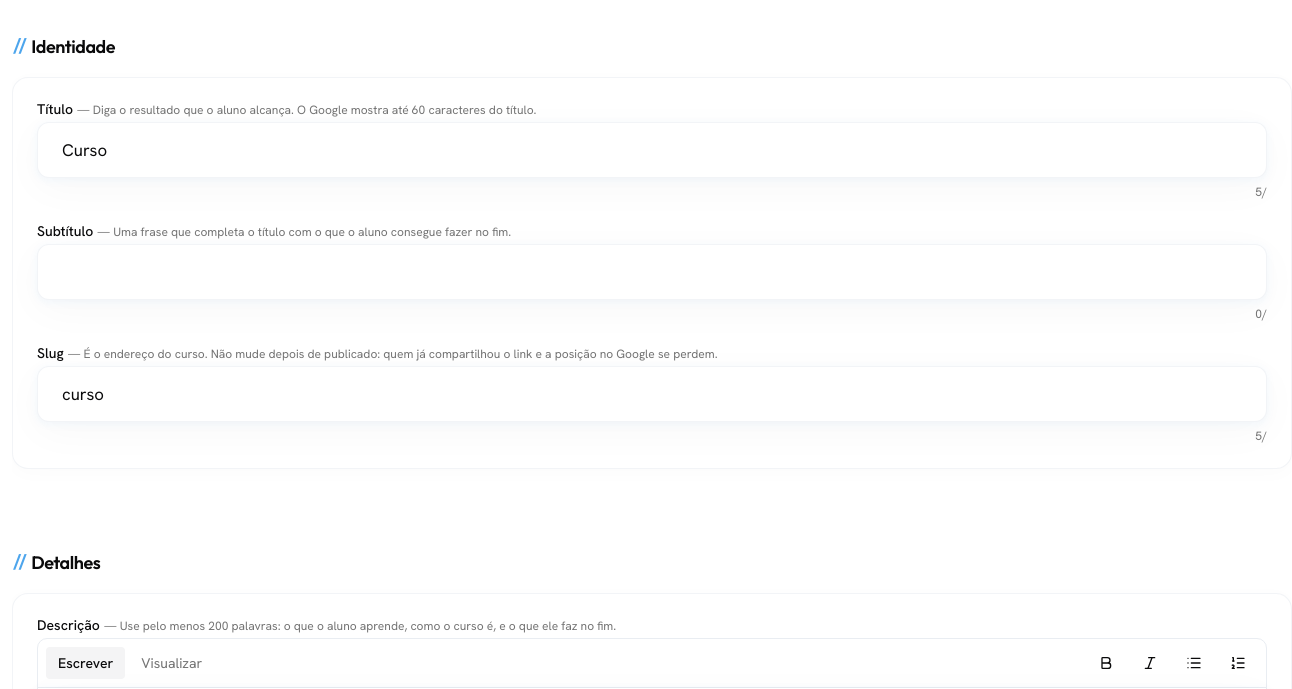
Test: aba Visualizar › mostra o negrito de verdade e esconde os botões; Escrever volta ao texto
The image size is (1292, 689).
Click the tab "Visualizar".
click(172, 663)  # box [129,647,214,679]
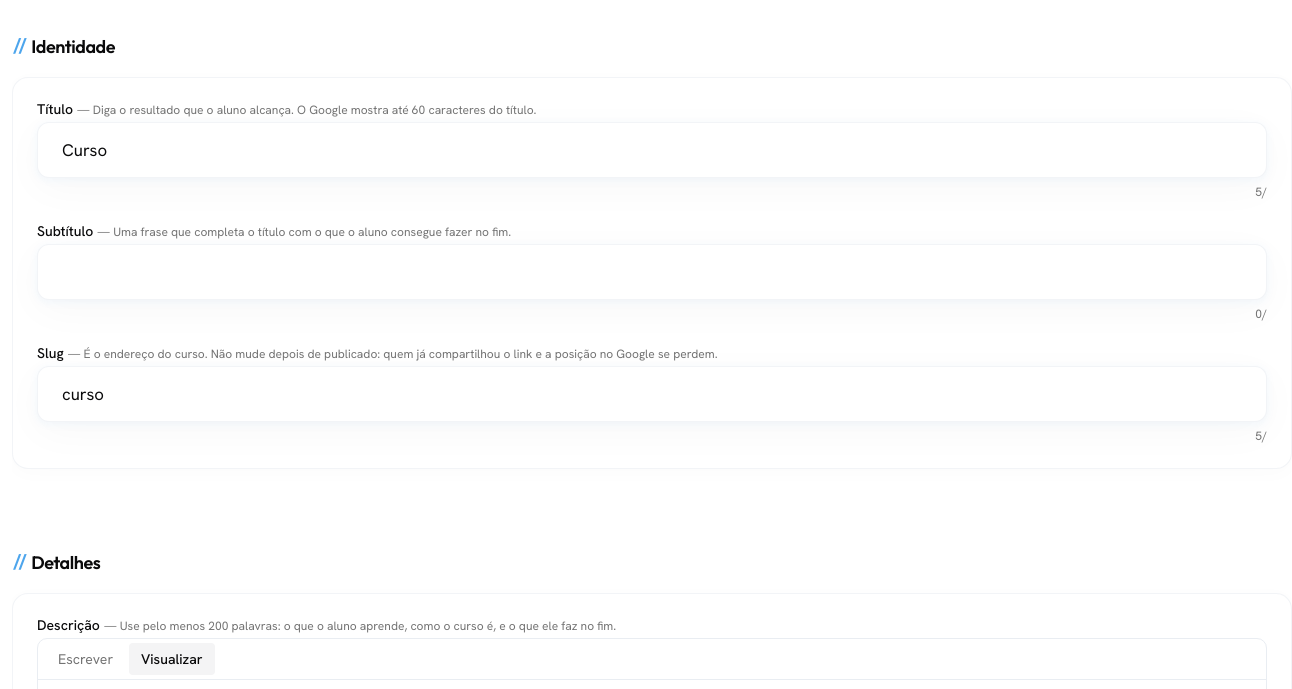
Expected: the button "Negrito" is gone
Click the tab "Escrever".
click(86, 659)  # box [46,643,125,675]
(page scrolled)
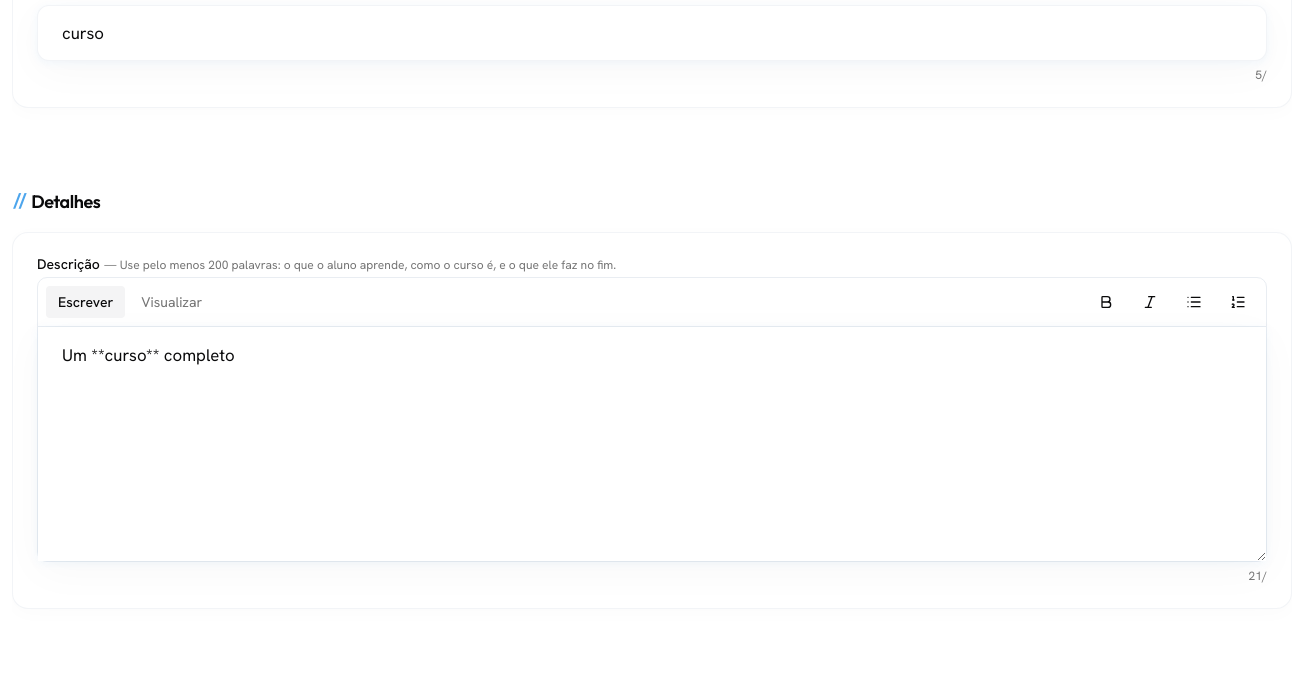
Expected: the text box labelled "Descrição" holds "Um **curso** completo", [38,327,1266,560]
